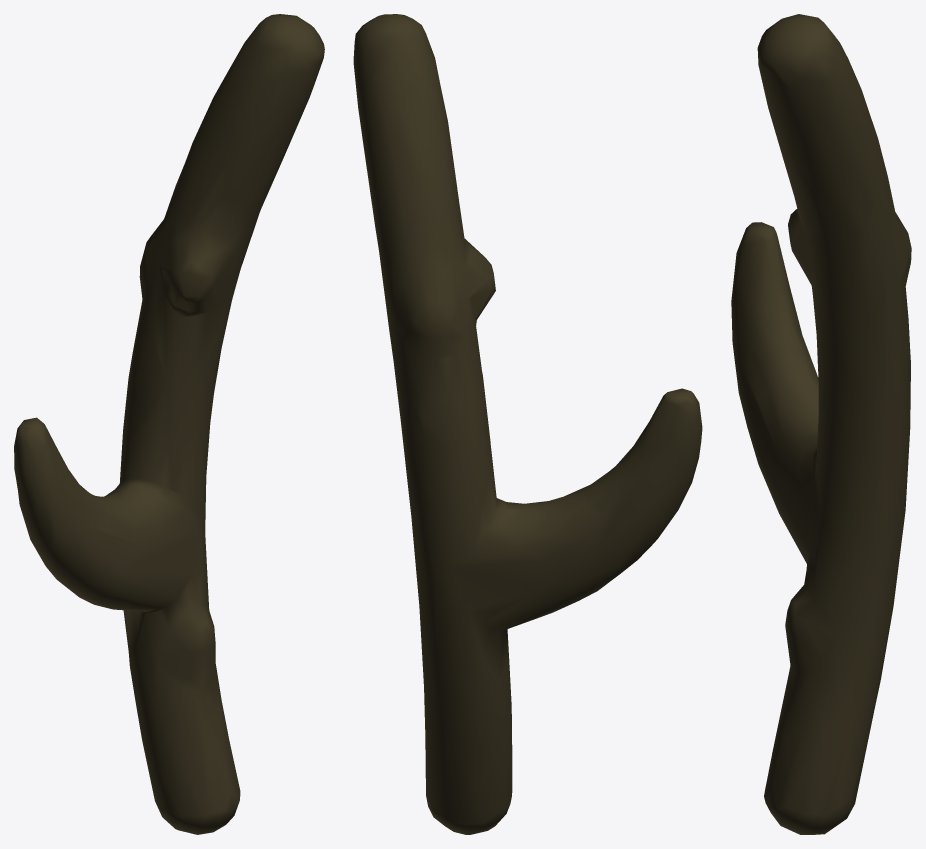
The model's file is ss_stalk1.gltf.
The picture shows the model from 3 angles, left to right: view 1: azimuth 30°, elevation 25°; view 2: azimuth 150°, elevation 25°; view 3: azimuth 270°, elevation 25°; orthographic projection. The views are drawn at different scales.
Parts seen in each view (by area): view 1: Layer_1.002; view 2: Layer_1.002; view 3: Layer_1.002.
Part boxes in pixels (x1=…): Layer_1.002: x1=14, y1=14, x2=324, y2=834; Layer_1.002: x1=353, y1=14, x2=702, y2=834; Layer_1.002: x1=731, y1=14, x2=911, y2=834.
Bounding box in the file's own units: 0.5953 × 1.41 × 0.2689.
